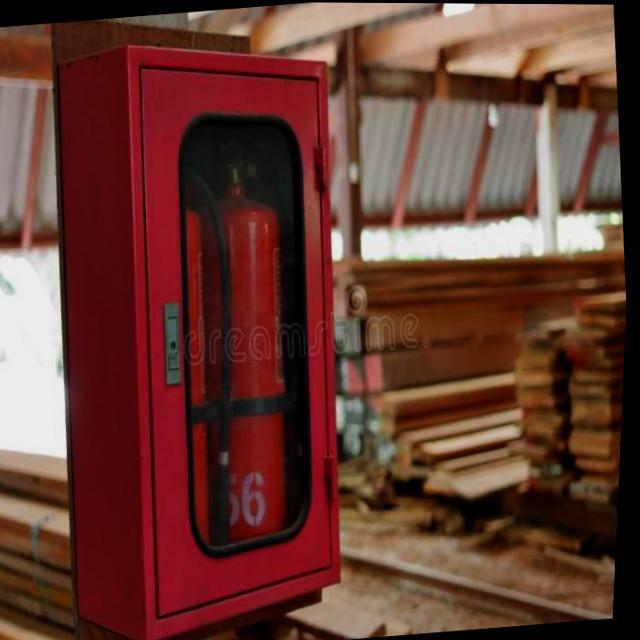FireExtinguisher: (89, 136, 264, 601), (170, 119, 324, 579)
